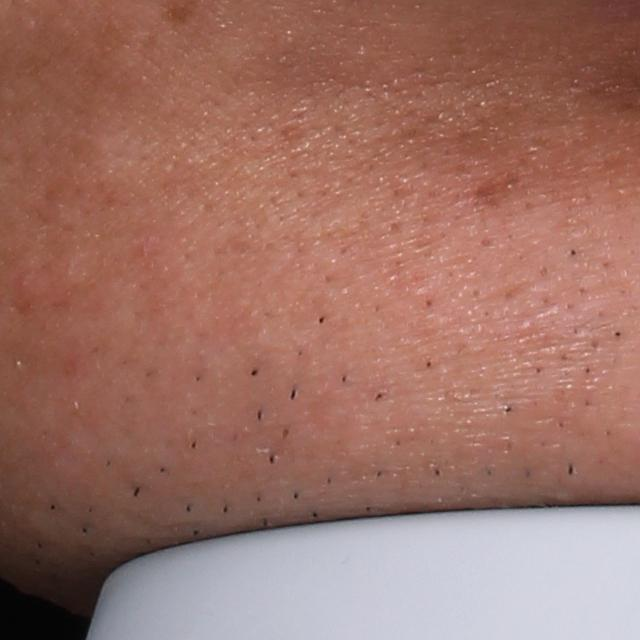hypertrophic_scar: (71, 122, 148, 197)
